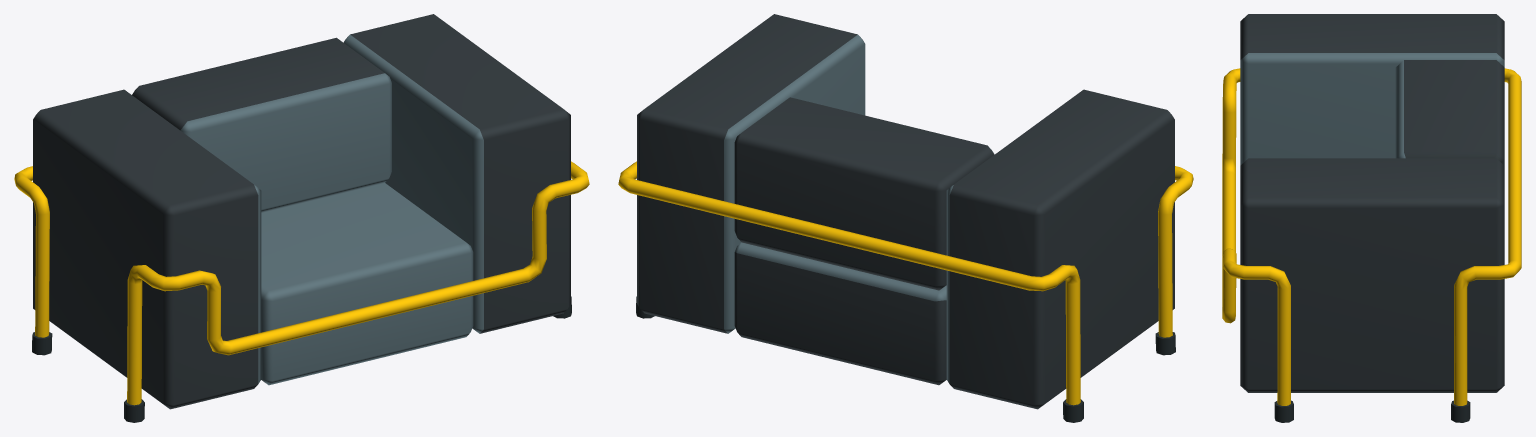
The model's file is Mini_sofa_010.fbx.
3 views of the same model, side by side, from view 1: azimuth 30°, elevation 25°; view 2: azimuth 150°, elevation 25°; view 3: azimuth 270°, elevation 25° (orthographic). The views are drawn at different scales.
Visible parts, largest first — view 1: Mini_sofa_010; view 2: Mini_sofa_010; view 3: Mini_sofa_010.
Boxes of the visible parts, <box> form: Mini_sofa_010: <box>14,14,589,422</box>; Mini_sofa_010: <box>618,14,1193,422</box>; Mini_sofa_010: <box>1222,14,1521,422</box>.
Size of the model in its own units: 176 by 107 by 84.24.
